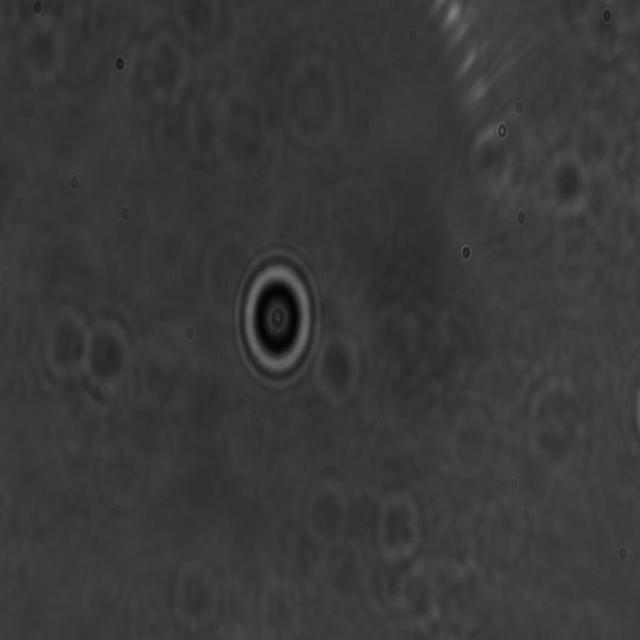LCELL: (229, 245, 322, 392)
